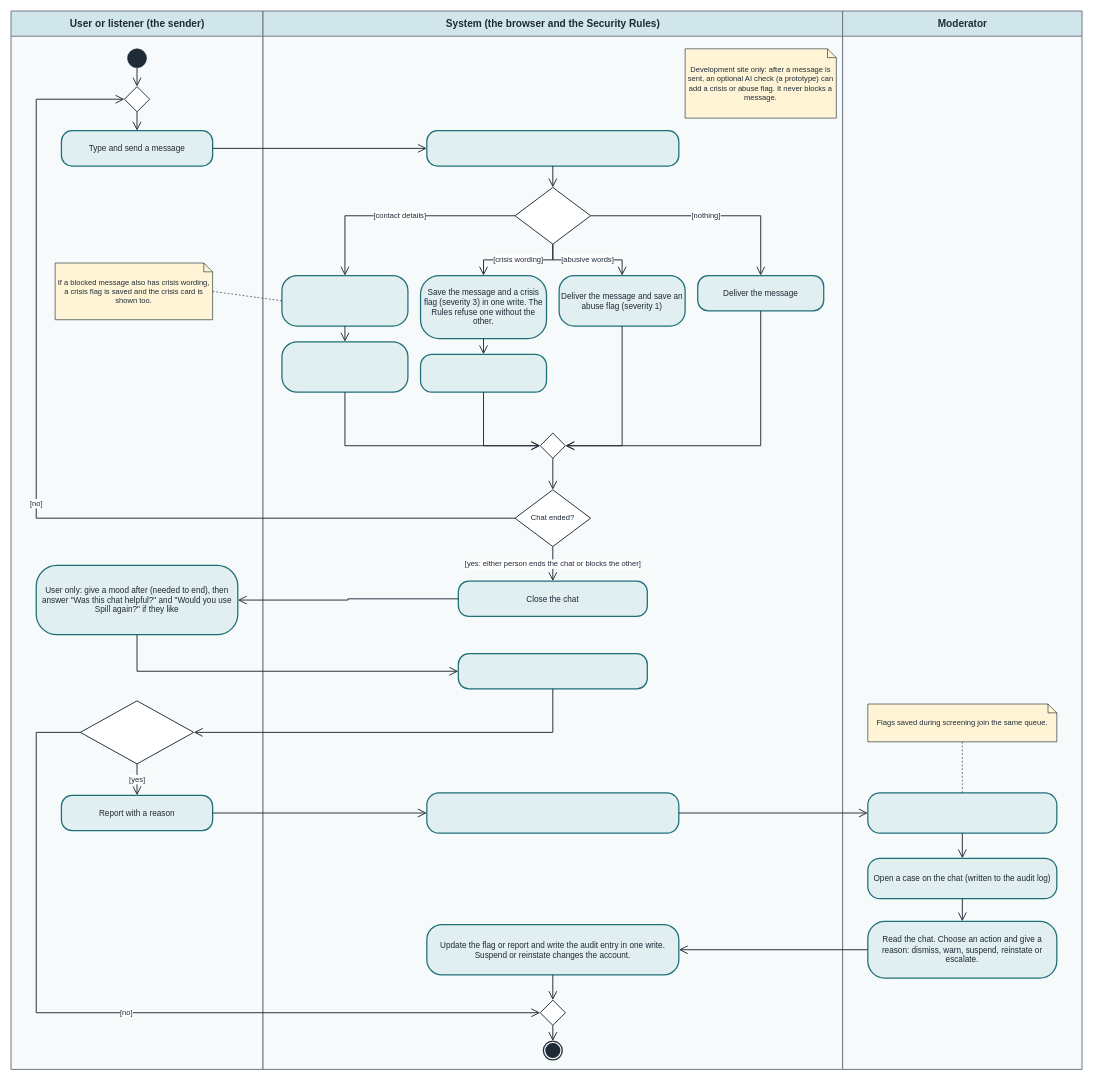
The diagram is 1094 pixels wide and 1081 high, and some of its shapes have lost their labels. The centre of each missing label's shape, as x and y in pixels:
"Not sent (the Rules refuse it too). The sender is warned." belongs at point 344,300.
"Open the queue: most serious first, then oldest" belongs at point 962,812.
"Report the other person?" belongs at point 137,732.
"Save a blocked-attempt flag: severity 2, or 3 for a listener" belongs at point 344,366.
"Save the anonymised copy (chatStats)" belongs at point 552,671.
"Save the report (severity 2) and mark the chat as flagged" belongs at point 552,812.
"Screen it in the browser: term lists and patterns" belongs at point 552,148.
"Show the sender the crisis card" belongs at point 483,372.
"What was found?" belongs at point 552,215.
